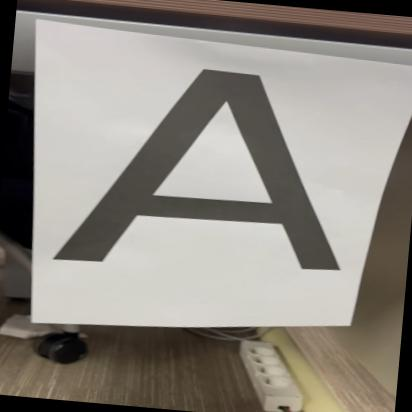seat: (24, 35, 382, 300)
